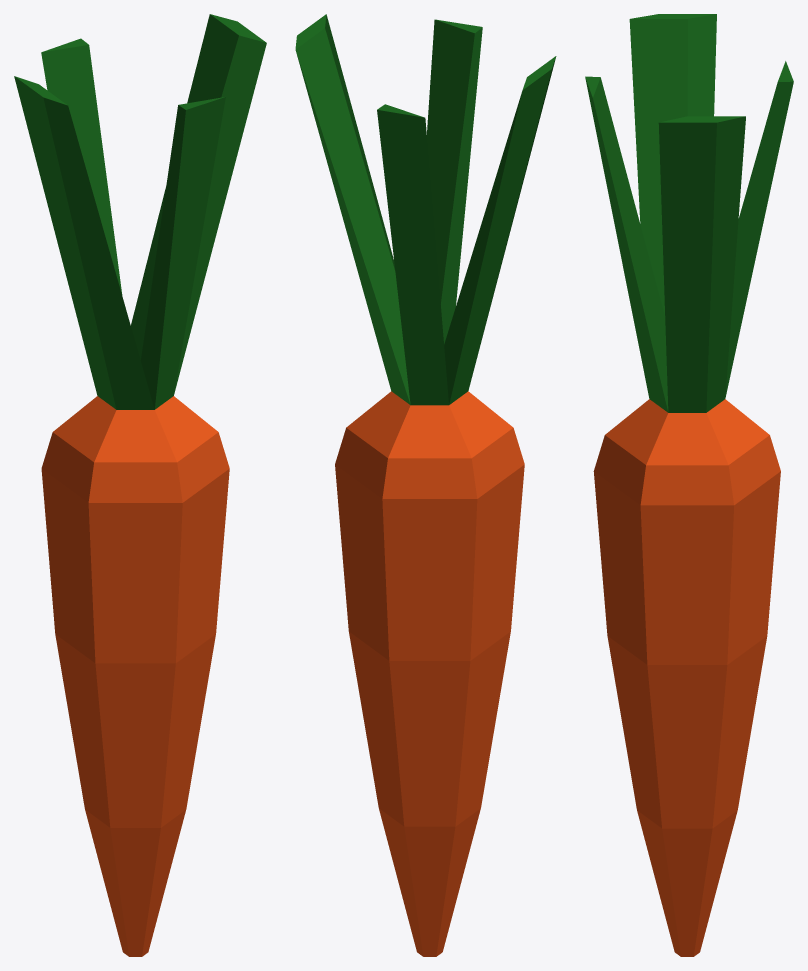
File: Carrot.fbx
3 renders of one model, left to right at view 1: azimuth 30°, elevation 25°; view 2: azimuth 150°, elevation 25°; view 3: azimuth 270°, elevation 25°, orthographic.
Visible parts, largest first — view 1: Carrot; view 2: Carrot; view 3: Carrot.
Boxes of the visible parts, box(x1,y1,x2,y2) form: Carrot: box(14, 14, 266, 956); Carrot: box(295, 14, 556, 956); Carrot: box(585, 14, 793, 956).
Bounding box in the file's own units: 0.1297 × 0.4943 × 0.1055.
